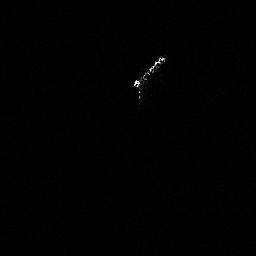ship: (132, 55, 168, 105)
